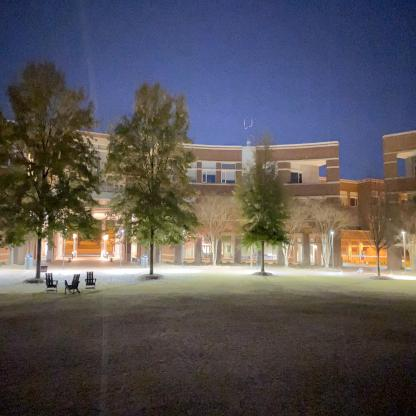eb2: (4, 117, 356, 279)
